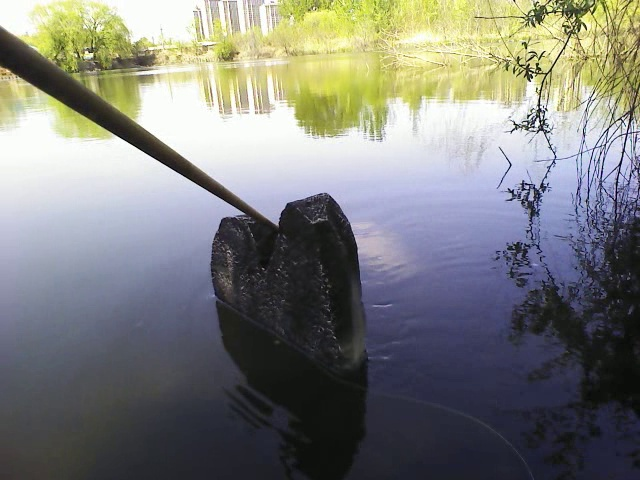rock: (208, 194, 370, 371)
